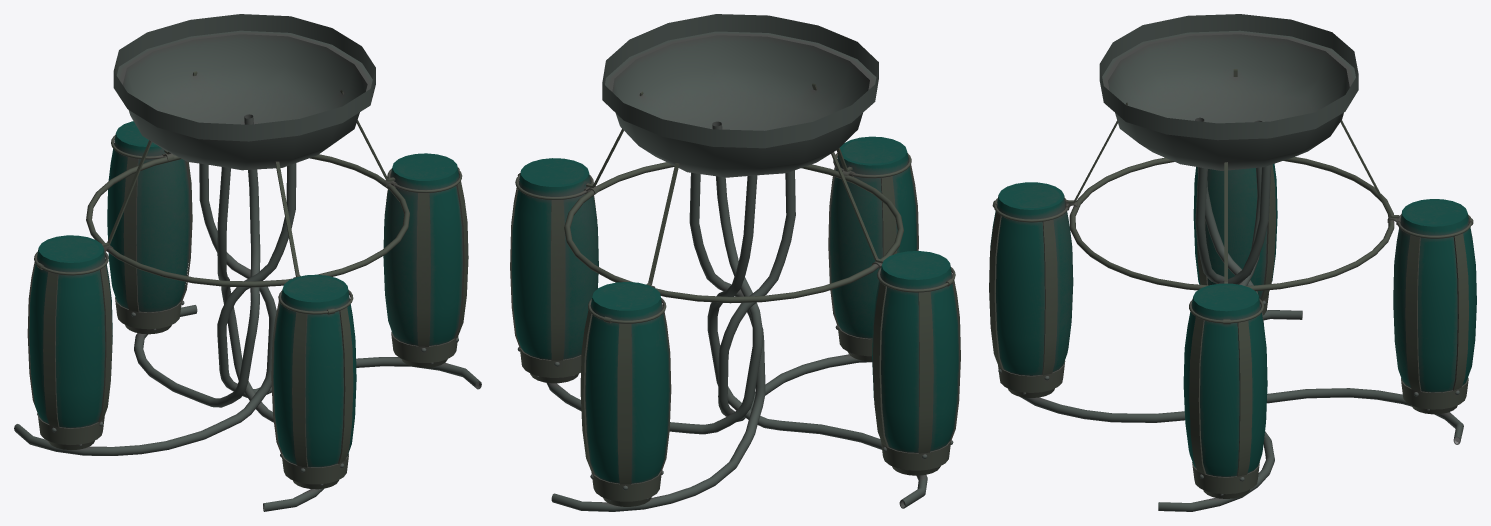
Rendered from SM_green_Decoration.fbx.
3 views of the same model, side by side, from view 1: azimuth 30°, elevation 25°; view 2: azimuth 150°, elevation 25°; view 3: azimuth 270°, elevation 25° (orthographic). The views are drawn at different scales.
Parts seen in each view (by area): view 1: SM_green_Decoration; view 2: SM_green_Decoration; view 3: SM_green_Decoration.
Boxes of the visible parts, box(x1,y1,x2,y2) form: SM_green_Decoration: box(14, 14, 481, 511); SM_green_Decoration: box(510, 14, 960, 511); SM_green_Decoration: box(989, 14, 1476, 511).
Size of the model in its own units: 57.31 by 57.11 by 44.5.
Materials: 1 (1 with a texture image).
